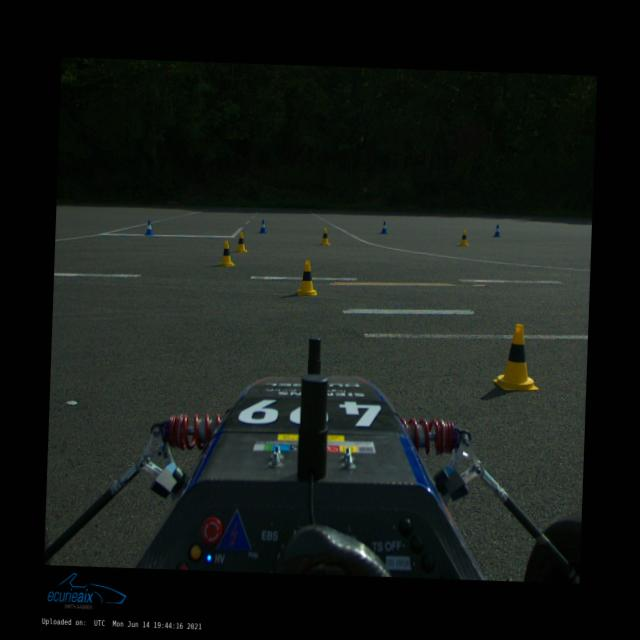blue_cone: (144, 220, 154, 234), (257, 220, 267, 232), (492, 224, 500, 236), (380, 221, 388, 233)
yellow_cone: (492, 322, 540, 392), (296, 259, 318, 295), (218, 240, 236, 266), (234, 232, 248, 252), (318, 227, 332, 245), (458, 230, 470, 246)
